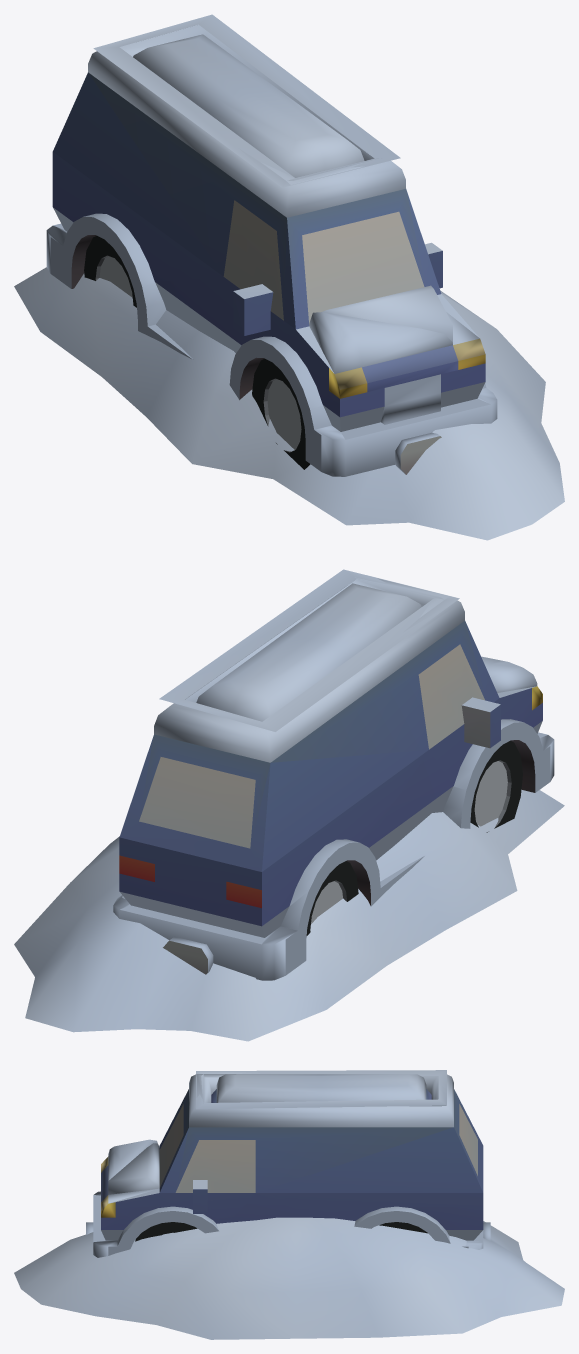
File: van_snowed.glb
The picture shows the model from 3 angles, top to bottom: view 1: azimuth 30°, elevation 25°; view 2: azimuth 150°, elevation 25°; view 3: azimuth 270°, elevation 25°; orthographic projection. The views are drawn at different scales.
Visible parts, largest first — view 1: Body; view 2: Body; view 3: Body.
Part boxes in pixels (x1,y1,x2,y2): Body: [14, 14, 564, 540]; Body: [14, 569, 564, 1041]; Body: [14, 1070, 564, 1339].
Bounding box in the file's own units: 3.52 × 2.75 × 7.22.
